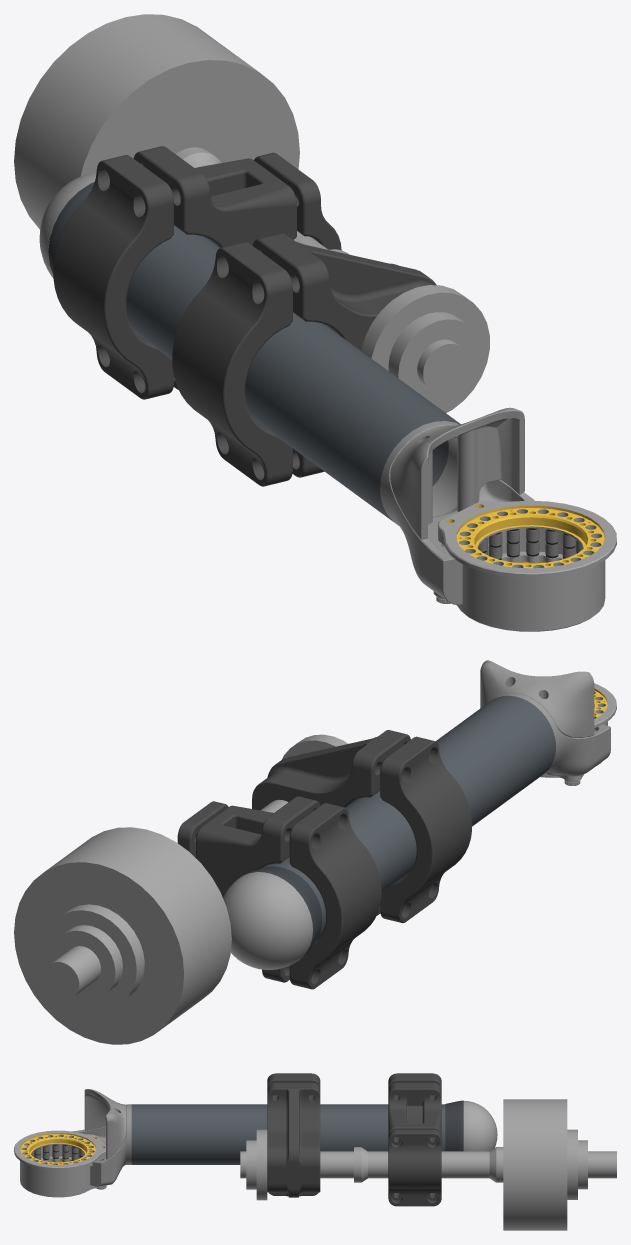
Rendered from LEFT_ELBOW_PITCH_LINK_413mm_LENGTH_10LB.obj.
3 renders of one model, top to bottom at view 1: azimuth 30°, elevation 25°; view 2: azimuth 150°, elevation 25°; view 3: azimuth 270°, elevation 25°, orthographic. The views are drawn at different scales.
Visible parts, largest first — view 1: mesh1081, mesh277, mesh276, mesh232, mesh257, mesh1201, mesh227, mesh142, mesh3, mesh5, mesh1173, mesh1447 (+23 smaller); view 2: mesh274, mesh1081, mesh277, mesh232, mesh527, mesh247, mesh1447, mesh3, mesh150, mesh227, mesh520, mesh5 (+16 smaller); view 3: mesh1081, mesh277, mesh283, mesh1201, mesh296, mesh2, mesh527, mesh287, mesh4, mesh477, mesh1173, mesh279 (+30 smaller).
Boxes of the visible parts, x1=… form: mesh1081: x1=126, y1=225, x2=460, y2=521; mesh277: x1=14, y1=14, x2=259, y2=229; mesh276: x1=80, y1=60, x2=299, y2=176; mesh232: x1=53, y1=203, x2=251, y2=444; mesh257: x1=106, y1=203, x2=291, y2=476; mesh1201: x1=458, y1=560, x2=605, y2=630; mesh227: x1=83, y1=170, x2=265, y2=326; mesh142: x1=187, y1=194, x2=295, y2=246; mesh3: x1=371, y1=292, x2=489, y2=412; mesh5: x1=398, y1=319, x2=481, y2=407; mesh1173: x1=439, y1=500, x2=615, y2=572; mesh1447: x1=390, y1=426, x2=453, y2=522; mesh274: x1=14, y1=862, x2=184, y2=1044; mesh1081: x1=262, y1=695, x2=555, y2=941; mesh277: x1=45, y1=827, x2=231, y2=1033; mesh232: x1=321, y1=773, x2=471, y2=957; mesh527: x1=223, y1=872, x2=312, y2=969; mesh247: x1=290, y1=773, x2=431, y2=981; mesh1447: x1=521, y1=671, x2=594, y2=736; mesh3: x1=45, y1=910, x2=136, y2=1008; mesh150: x1=197, y1=833, x2=279, y2=974; mesh227: x1=310, y1=748, x2=449, y2=867; mesh520: x1=253, y1=767, x2=370, y2=810; mesh5: x1=51, y1=930, x2=115, y2=998; mesh1081: x1=131, y1=1104, x2=445, y2=1164; mesh277: x1=503, y1=1099, x2=567, y2=1230; mesh283: x1=368, y1=1151, x2=489, y2=1178; mesh1201: x1=20, y1=1161, x2=91, y2=1196; mesh296: x1=389, y1=1156, x2=440, y2=1187; mesh2: x1=256, y1=1129, x2=577, y2=1200; mesh527: x1=463, y1=1101, x2=497, y2=1151; mesh287: x1=240, y1=1151, x2=353, y2=1178; mesh4: x1=246, y1=1140, x2=587, y2=1189; mesh477: x1=268, y1=1162, x2=319, y2=1188; mesh1173: x1=14, y1=1130, x2=105, y2=1167; mesh279: x1=588, y1=1151, x2=616, y2=1178.
Bounding box in the file's own units: 0.1703 × 0.1236 × 0.5664.
